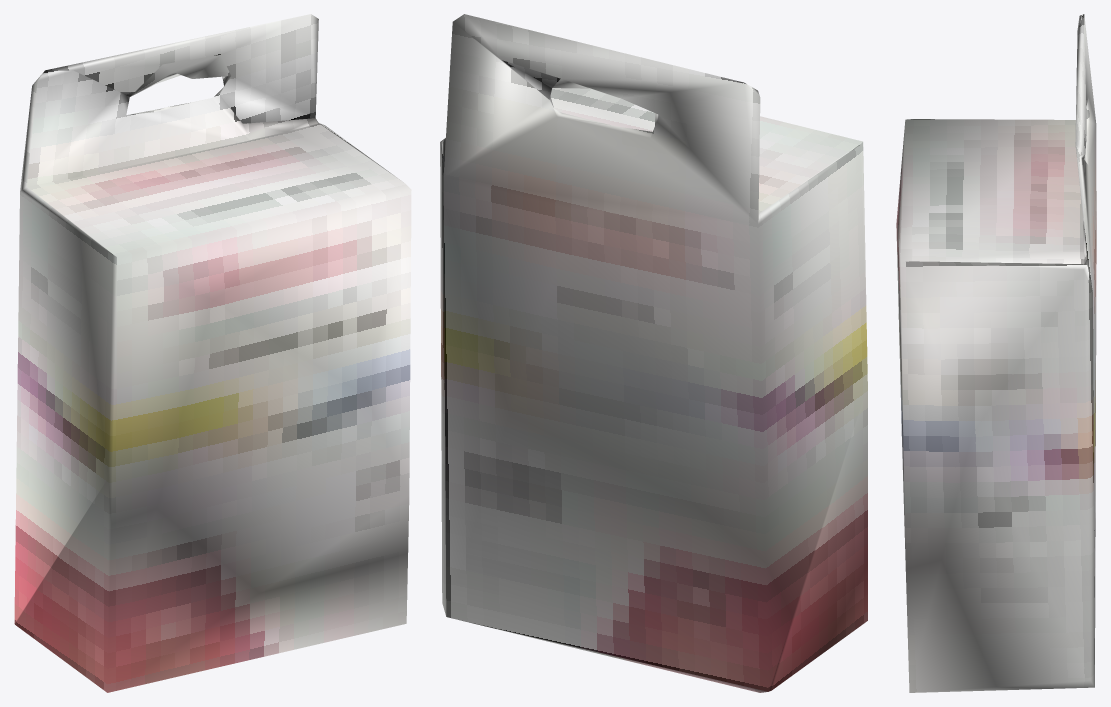
File: Office_Depot_Canon_CLI36_Remanufactured_Ink_Cartridge_TriColor-low.glb
3 views of the same model, side by side, from view 1: azimuth 30°, elevation 25°; view 2: azimuth 150°, elevation 25°; view 3: azimuth 270°, elevation 25° (orthographic). The views are drawn at different scales.
Visible parts, largest first — view 1: Office_Depot_Canon_CLI36_Remanufactured_Ink_Cartridge_TriCol; view 2: Office_Depot_Canon_CLI36_Remanufactured_Ink_Cartridge_TriCol; view 3: Office_Depot_Canon_CLI36_Remanufactured_Ink_Cartridge_TriCol.
Boxes of the visible parts, x1,y1,x2,y2 form: Office_Depot_Canon_CLI36_Remanufactured_Ink_Cartridge_TriCol: [14, 14, 411, 692]; Office_Depot_Canon_CLI36_Remanufactured_Ink_Cartridge_TriCol: [440, 14, 867, 692]; Office_Depot_Canon_CLI36_Remanufactured_Ink_Cartridge_TriCol: [896, 14, 1096, 692].
Bounding box in the file's own units: 0.085 × 0.1465 × 0.0486.
Materials: 1 (1 with a texture image).
